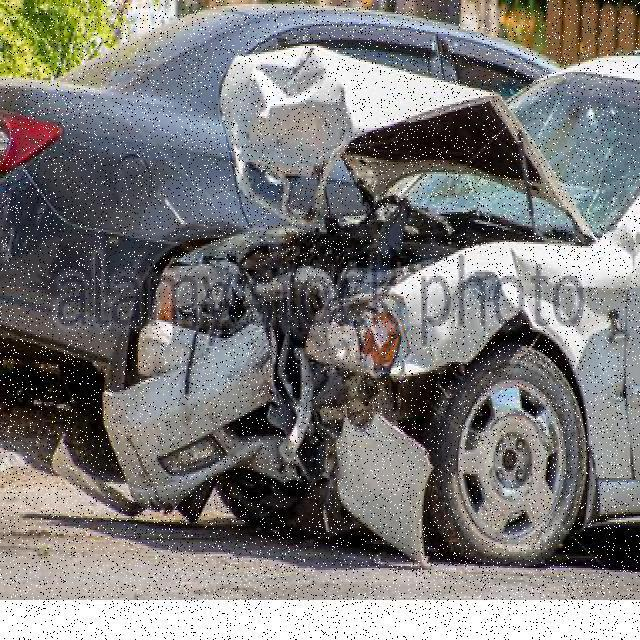bonnet-dent: (216, 46, 563, 240)
fender-dent: (408, 252, 623, 416)
front-bumper-dent: (100, 322, 382, 556)
